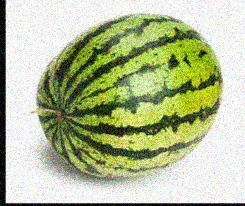watermelon: (34, 12, 223, 178)
